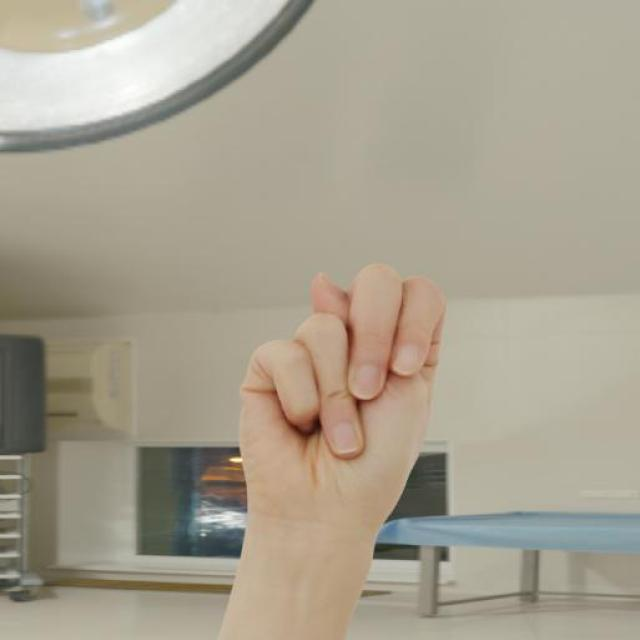N: (234, 258, 450, 533)
